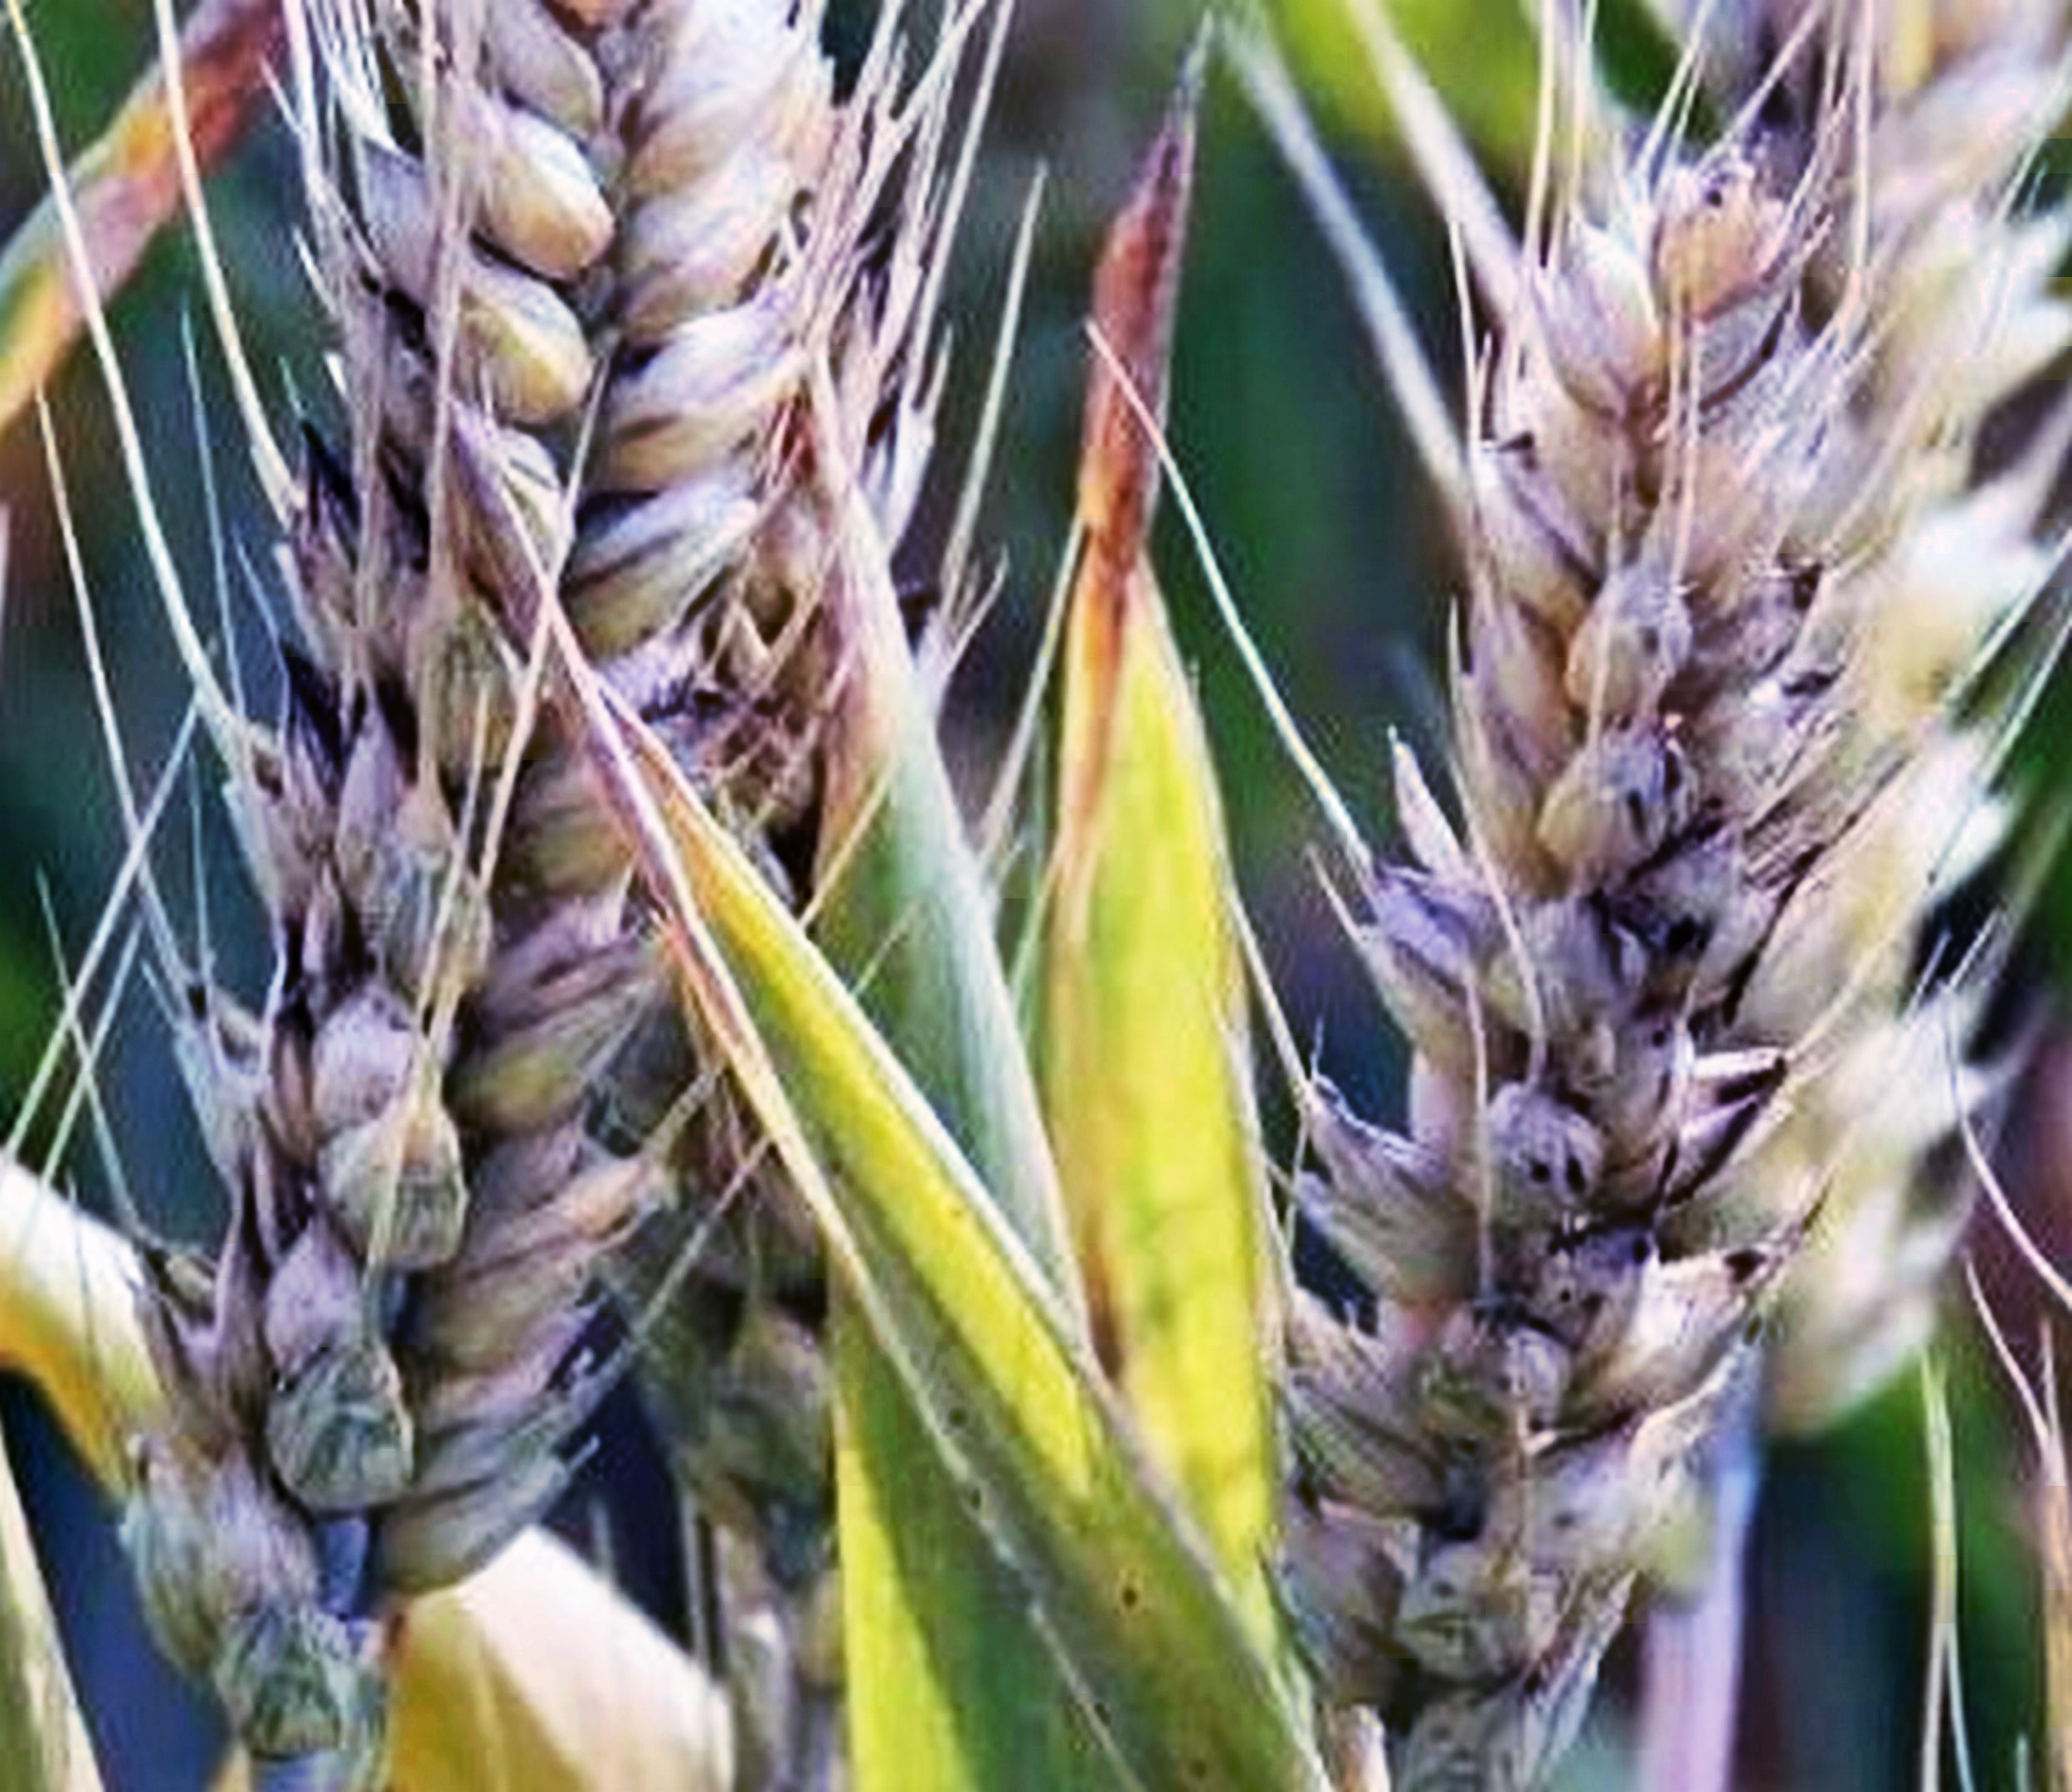Wheat scab: (125, 37, 853, 1693), (1297, 153, 1965, 1709)
